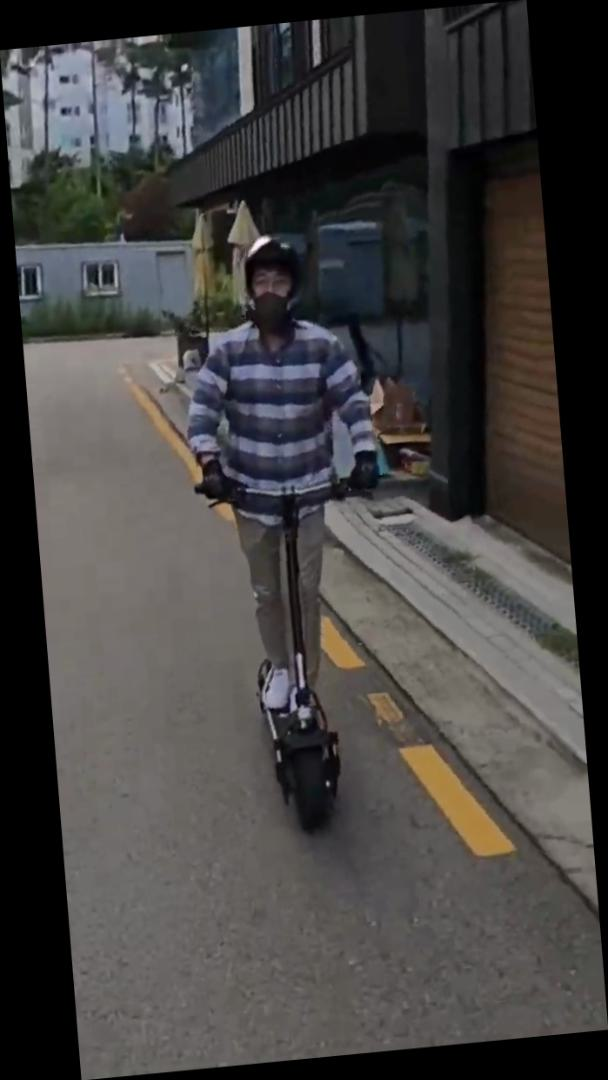helmet: (168, 221, 412, 844)
